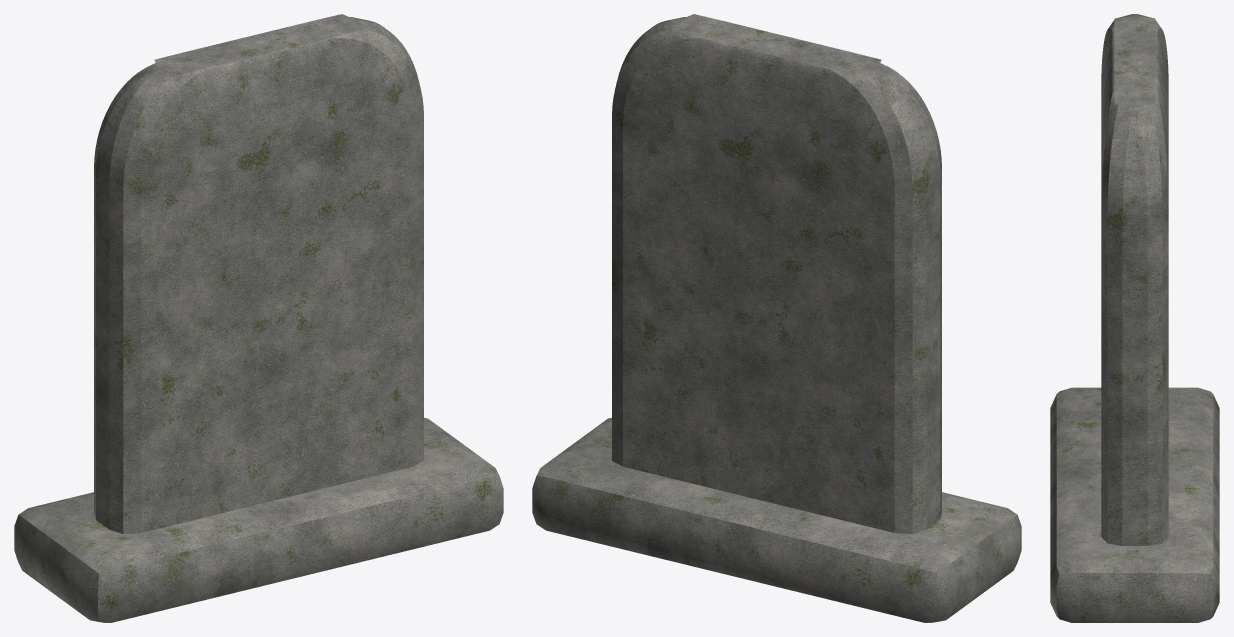
File: lapida.obj
3 views of the same model, side by side, from view 1: azimuth 30°, elevation 25°; view 2: azimuth 150°, elevation 25°; view 3: azimuth 270°, elevation 25° (orthographic). The views are drawn at different scales.
Visible parts, largest first — view 1: Cubo_001; view 2: Cubo_001; view 3: Cubo_001.
Boxes of the visible parts, x1,y1,x2,y2 form: Cubo_001: (14, 14, 503, 622); Cubo_001: (532, 14, 1021, 622); Cubo_001: (1050, 14, 1219, 622).
Bounding box in the file's own units: 0.8 × 0.93 × 0.3.
